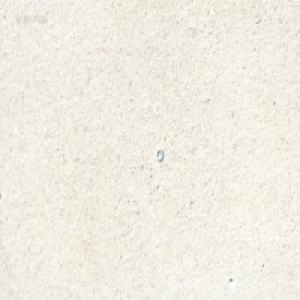Washer: (155, 150, 163, 165)
